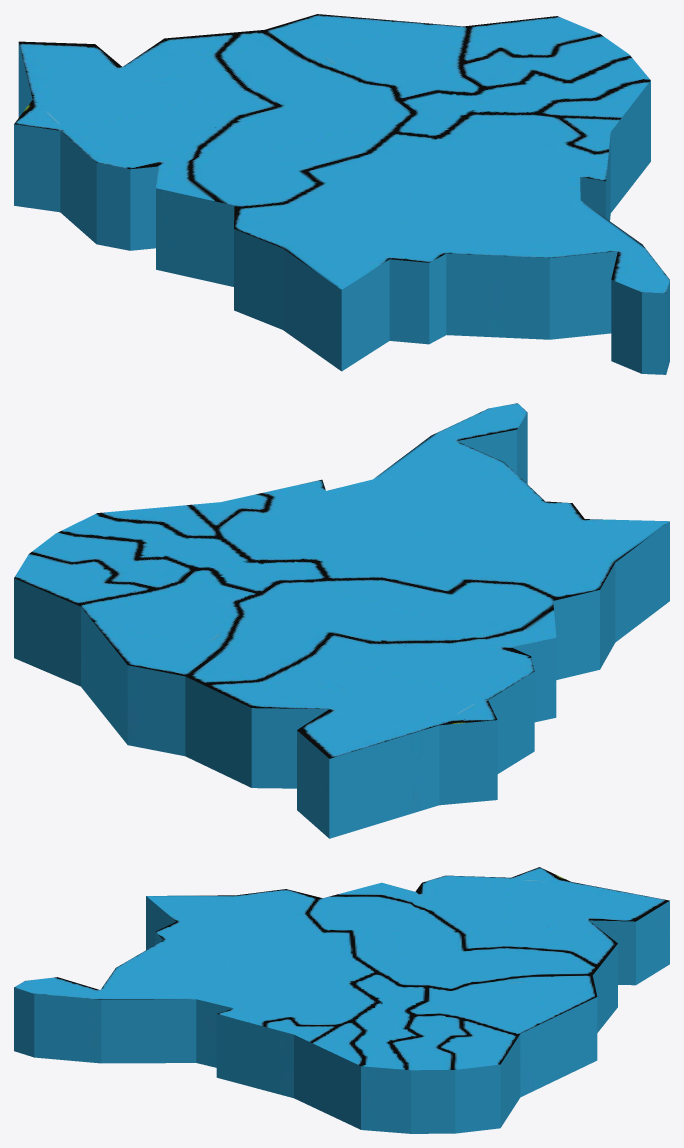
Rendered from Nordeste.fbx.
The picture shows the model from 3 angles, top to bottom: view 1: azimuth 30°, elevation 25°; view 2: azimuth 150°, elevation 25°; view 3: azimuth 270°, elevation 25°; orthographic projection. The views are drawn at different scales.
Parts seen in each view (by area): view 1: Nordeste; view 2: Nordeste; view 3: Nordeste.
Boxes of the visible parts, x1=… form: Nordeste: x1=14, y1=14, x2=669, y2=374; Nordeste: x1=14, y1=403, x2=669, y2=838; Nordeste: x1=14, y1=867, x2=669, y2=1133.
Bounding box in the file's own units: 114 × 16.73 × 156.
Materials: 1 (1 with a texture image).
